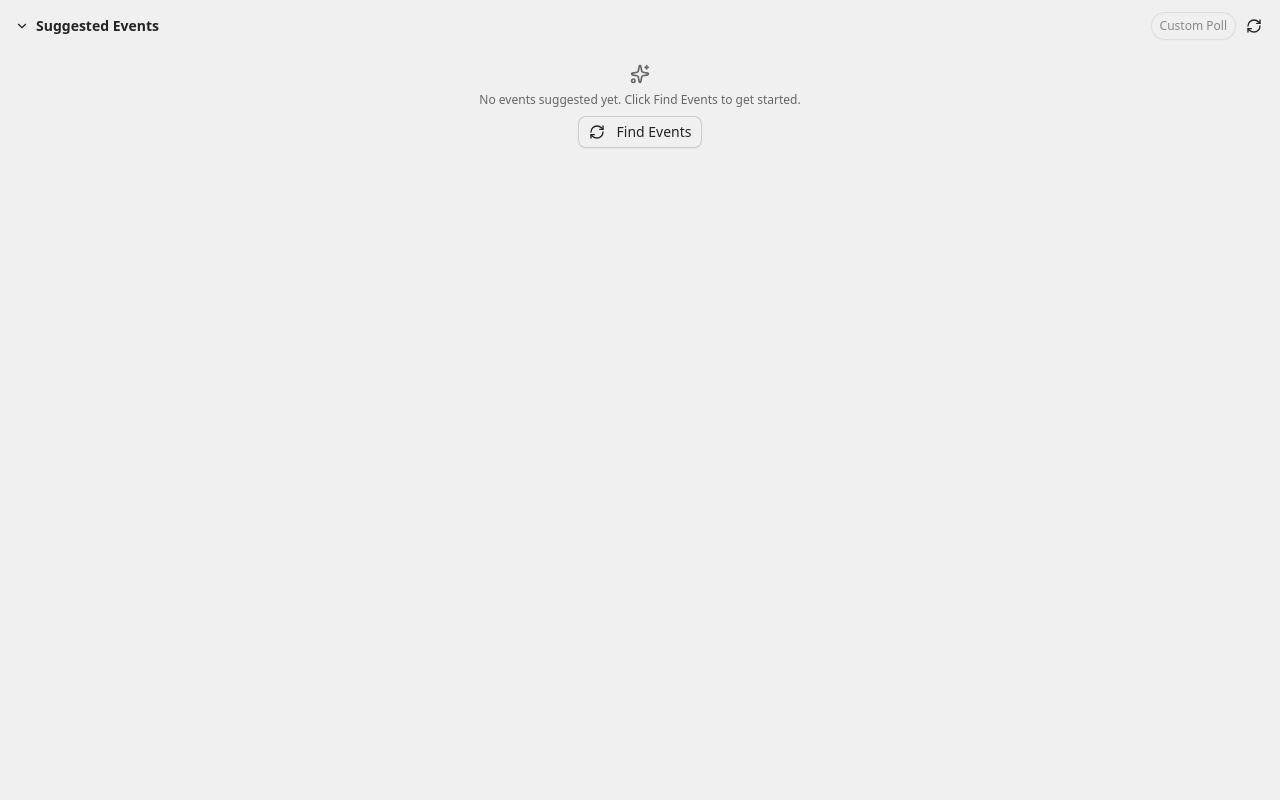
Test case: shows area search controls and re-runs search for the selected area
Step 1. Click the button "Find Events" → [640, 132], box [578,116,702,148]
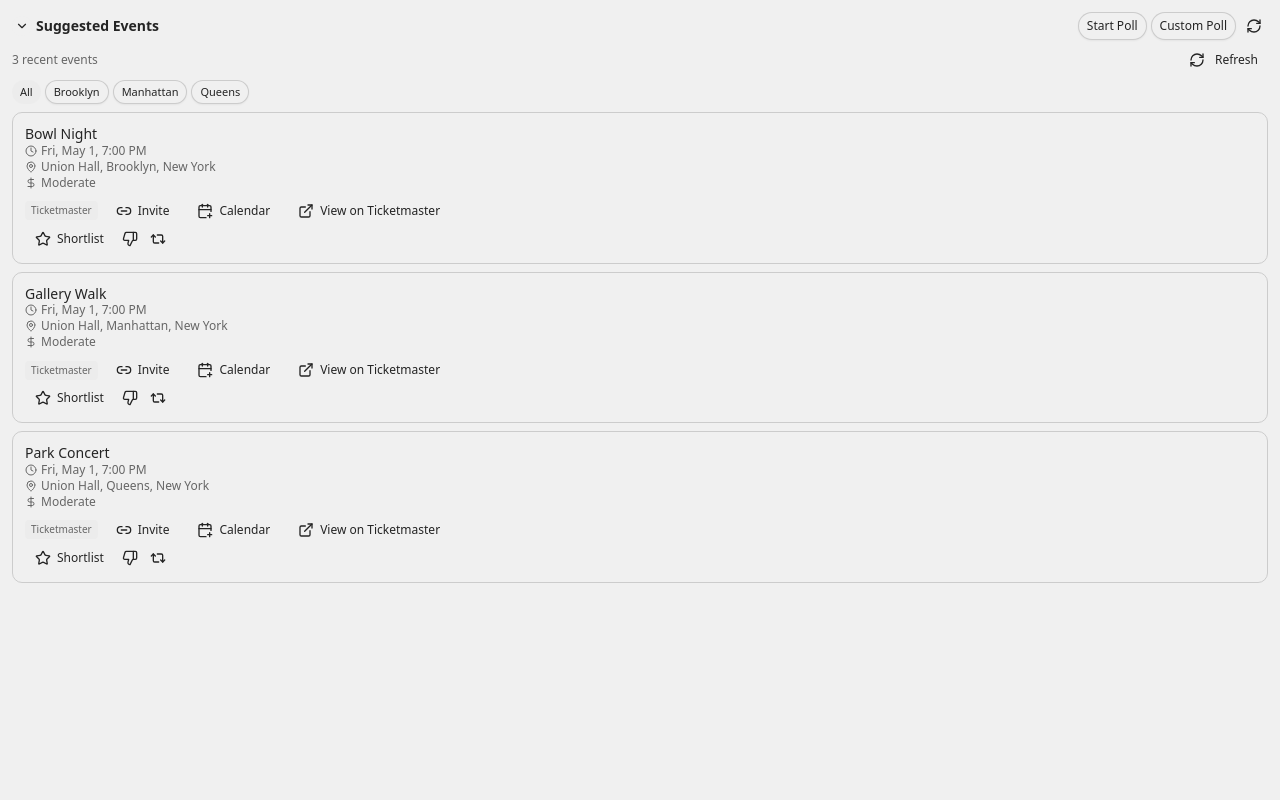
Expected: the text "Bowl Night" is shown, [25,125,97,142]
Expected: the button "All" is shown, [12,80,41,104]
Expected: the button "Brooklyn" is shown
Step 2. Click the button "Brooklyn" → [77, 92], box [45,80,109,104]
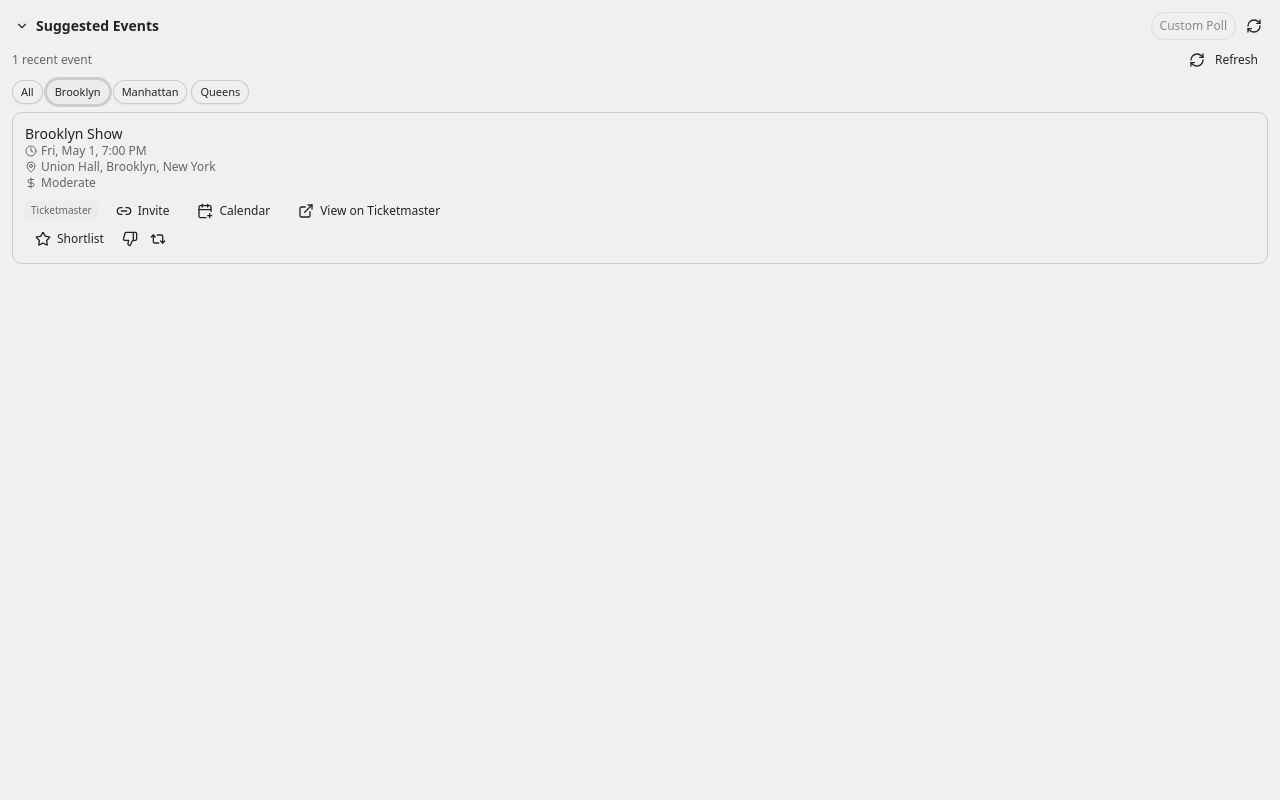
Expected: the text "Brooklyn Show" is shown, [25,125,123,142]
Expected: the text "Bowl Night" is gone
Expected: the text "Gallery Walk" is gone
